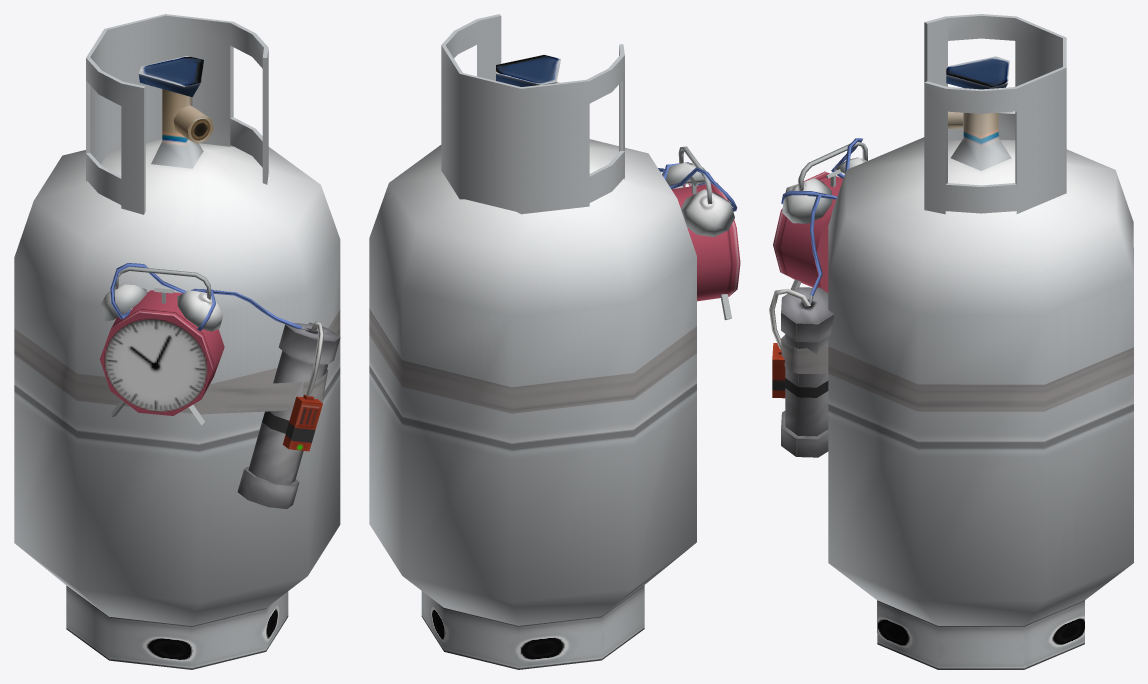
The model's file is PropaneBombTimer_Mesh.fbx.
3 renders of one model, left to right at view 1: azimuth 30°, elevation 25°; view 2: azimuth 150°, elevation 25°; view 3: azimuth 270°, elevation 25°, orthographic.
Parts seen in each view (by area): view 1: PropaneTankBombTimer; view 2: PropaneTankBombTimer; view 3: PropaneTankBombTimer.
Boxes of the visible parts, x1,y1,x2,y2 form: PropaneTankBombTimer: [14, 14, 340, 669]; PropaneTankBombTimer: [369, 14, 740, 669]; PropaneTankBombTimer: [769, 14, 1133, 669].
Size of the model in its own units: 56.86 by 113 by 65.3.
